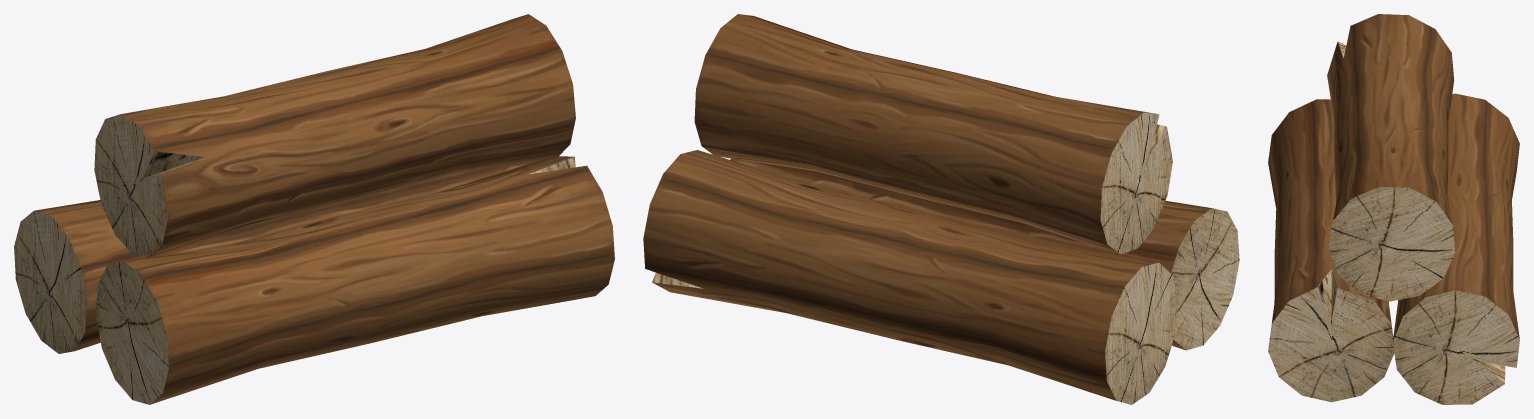
Rendered from wood-1.fbx.
3 views of the same model, side by side, from view 1: azimuth 30°, elevation 25°; view 2: azimuth 150°, elevation 25°; view 3: azimuth 270°, elevation 25° (orthographic). The views are drawn at different scales.
Visible parts, largest first — view 1: Cylinder, Cylinder_2, Cylinder_1; view 2: Cylinder_1, Cylinder_2, Cylinder; view 3: Cylinder_2, Cylinder_1, Cylinder.
Boxes of the visible parts, <box> form: Cylinder: <box>95,156,614,404</box>; Cylinder_2: <box>94,14,575,257</box>; Cylinder_1: <box>14,160,540,353</box>; Cylinder_1: <box>643,150,1177,404</box>; Cylinder_2: <box>694,14,1172,254</box>; Cylinder: <box>730,158,1239,350</box>; Cylinder_2: <box>1327,14,1455,301</box>; Cylinder_1: <box>1392,93,1519,404</box>; Cylinder: <box>1268,99,1394,402</box>.
Size of the model in its own units: 160 by 80.96 by 86.47.
Materials: 2 (2 with a texture image).
